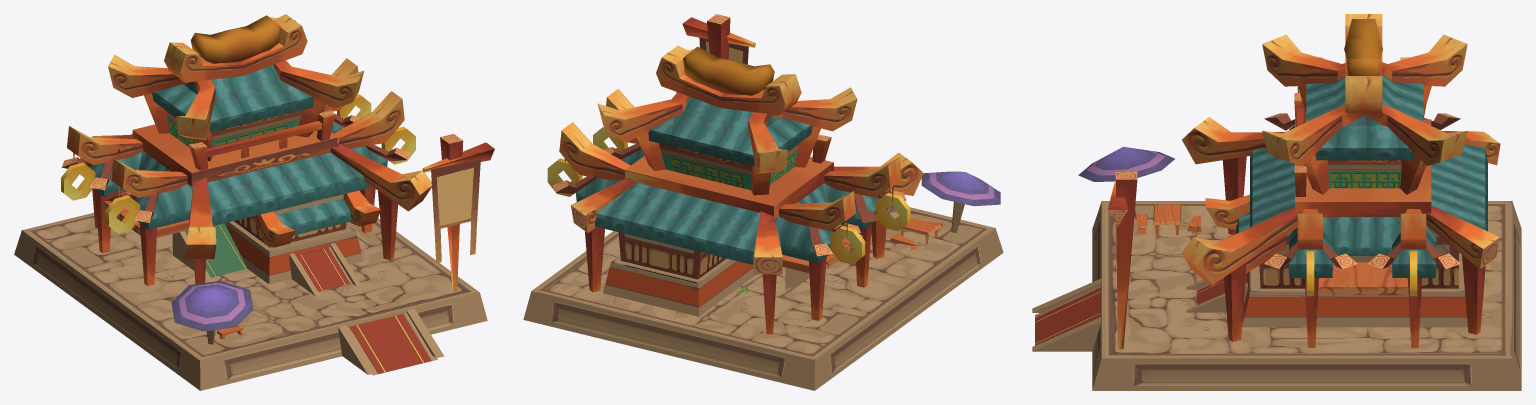
Rendered from Bank.FBX.
3 views of the same model, side by side, from view 1: azimuth 30°, elevation 25°; view 2: azimuth 150°, elevation 25°; view 3: azimuth 270°, elevation 25° (orthographic). The views are drawn at different scales.
Visible parts, largest first — view 1: bank, bank01, bank02, bank03, bank04; view 2: bank, bank01, bank02, bank04; view 3: bank.
Part boxes in pixels (left/top/right/bottom): bank: left=14, top=14, right=494, bottom=390; bank01: left=105, top=195, right=139, bottom=233; bank02: left=61, top=162, right=95, bottom=200; bank03: left=381, top=126, right=415, bottom=164; bank04: left=337, top=94, right=371, bottom=118; bank: left=523, top=14, right=1003, bottom=390; bank01: left=875, top=192, right=910, bottom=231; bank02: left=830, top=226, right=865, bottom=264; bank04: left=547, top=158, right=582, bottom=196; bank: left=1032, top=14, right=1521, bottom=390.
Bounding box in the file's own units: 62.51 × 71.81 × 45.17.
